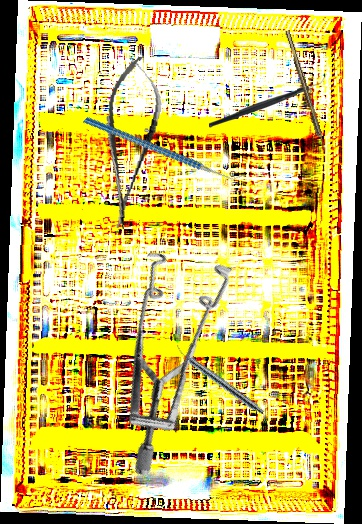Chopper: (82, 69, 247, 226), (208, 72, 328, 129)
Handpiece: (172, 343, 267, 417)
Hook Surgical: (284, 29, 328, 154)
Micro Scissor: (90, 53, 169, 232)
Speculum: (33, 218, 295, 479)
